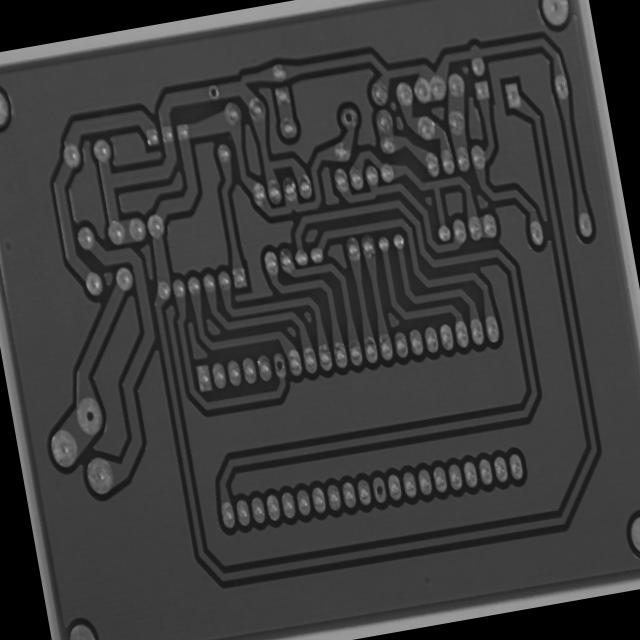missing_hole: (73, 396, 105, 438), (368, 473, 389, 509), (270, 350, 290, 381), (338, 103, 360, 128), (204, 80, 222, 104)
